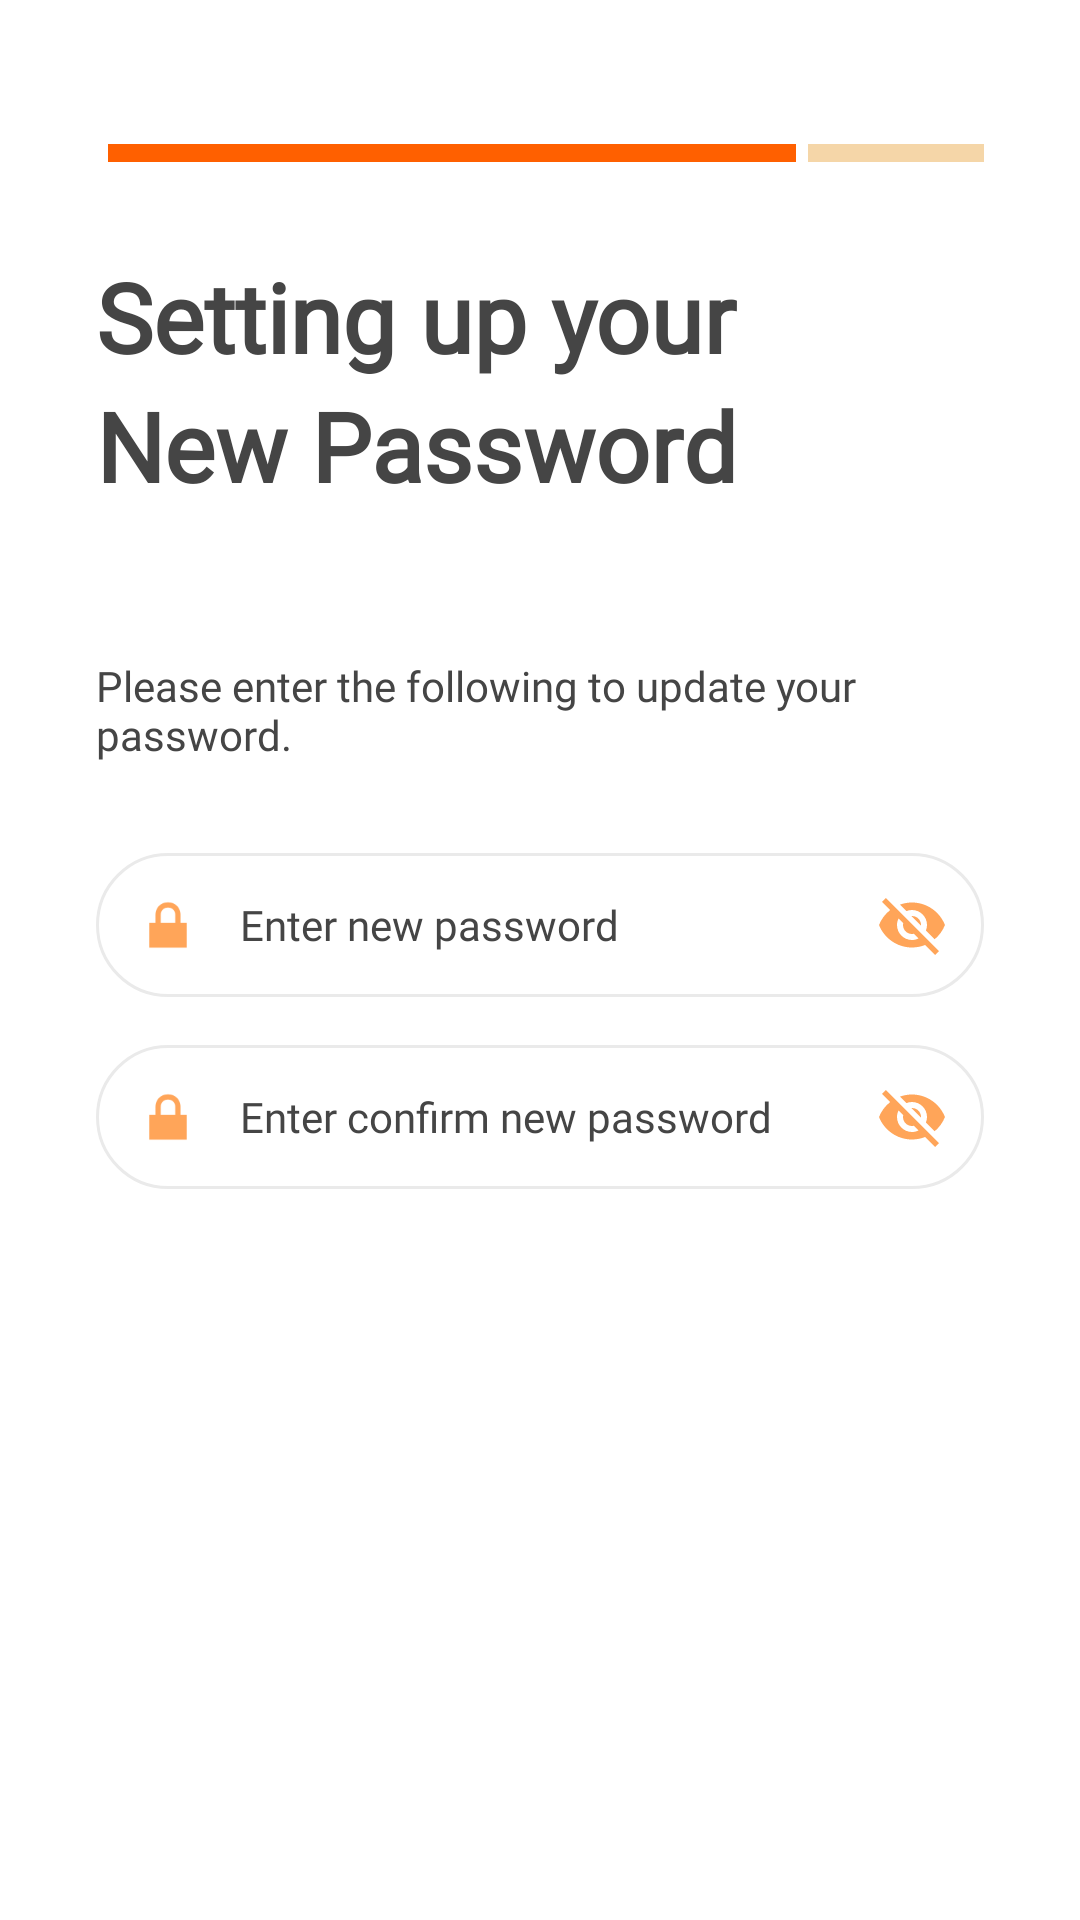

Icon click points for this 1080px x 1920px phone screenshot, format point (x, y):
lock: point (168, 925), point (168, 1117)
Toggle password visibility: point (912, 926), point (912, 1118)
